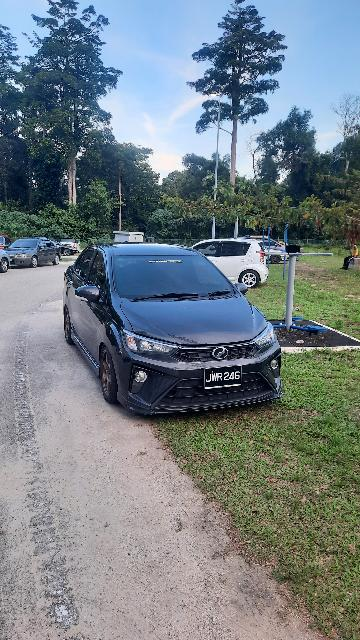License_Plate: (202, 365, 244, 390)
car: (61, 243, 290, 418)
